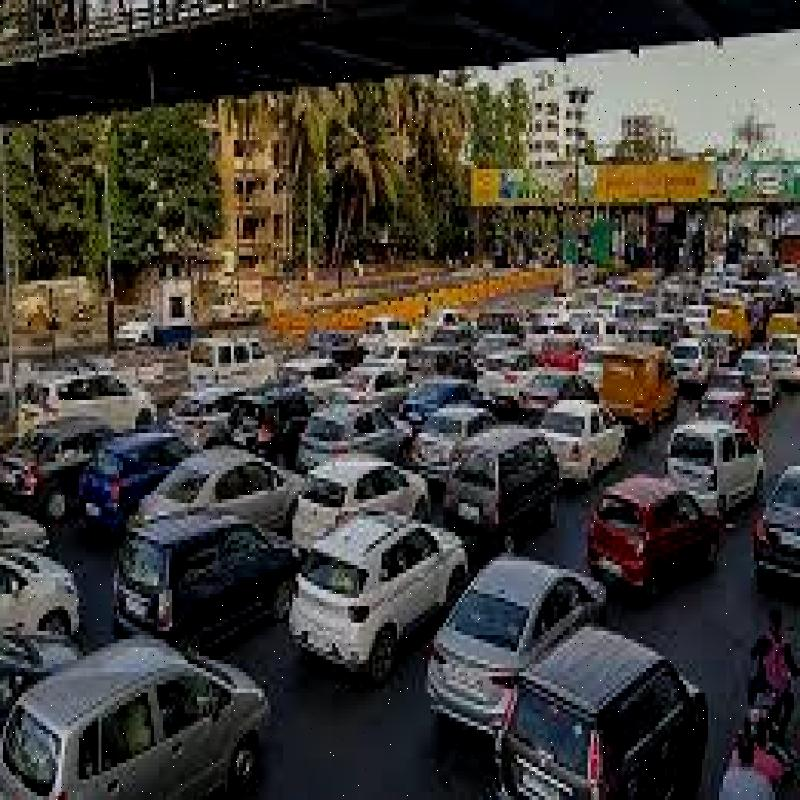car: (30, 619, 270, 800), (288, 495, 458, 678), (433, 536, 599, 708), (115, 488, 265, 640), (581, 461, 730, 583), (443, 420, 566, 544), (301, 442, 423, 557), (155, 430, 290, 521), (664, 411, 777, 509), (309, 377, 404, 473), (549, 380, 636, 479)
